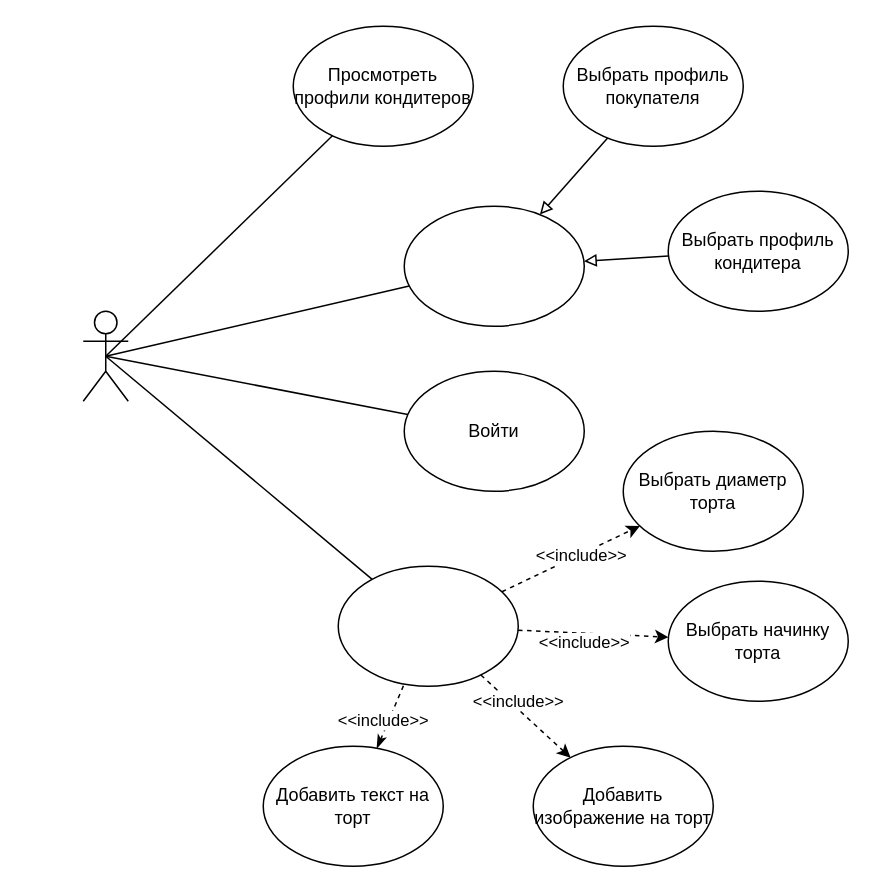
Some shapes in this 875 by 893 pixel diagram are drawn without their labels. Each missing label, with the centre of its shape:
"Зарегистрироваться" belongs at pixel 493 265.
"Неавторизованный пользователь" belongs at pixel 105 355.
"Создать дизайн торта" belongs at pixel 427 625.
